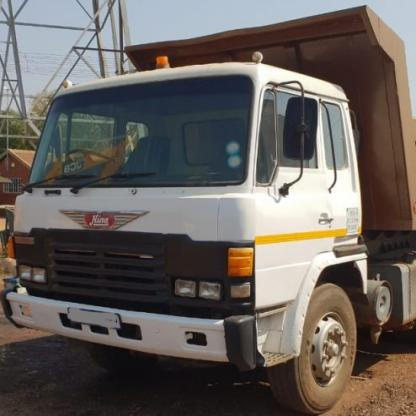dump_truck: (10, 23, 415, 405)
